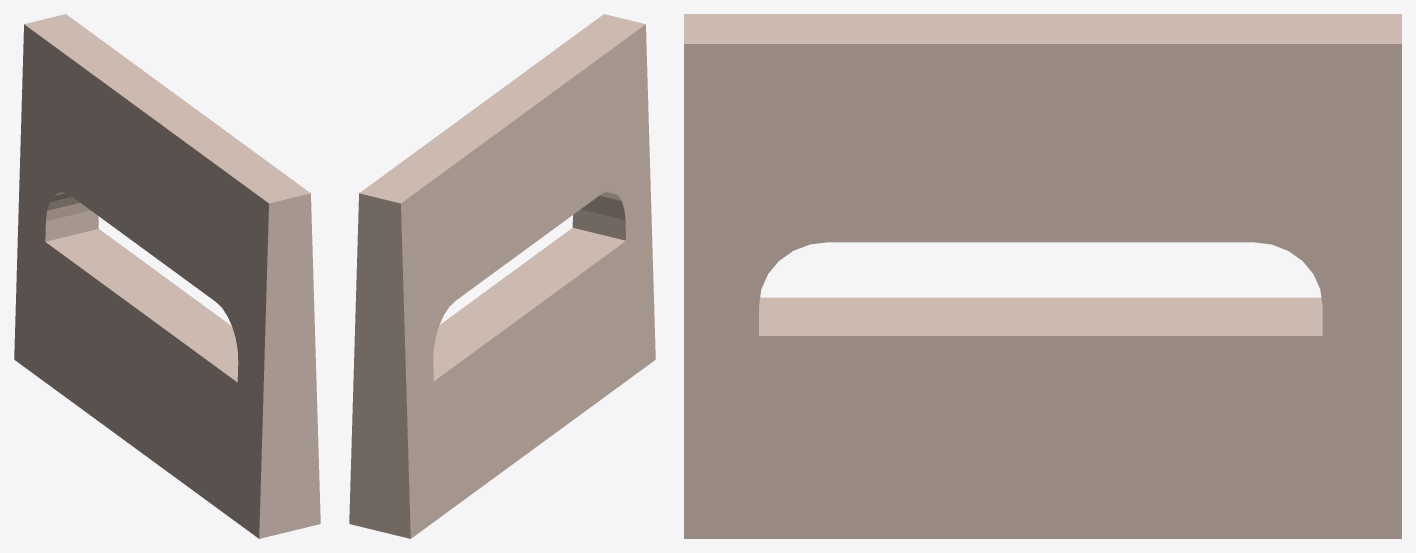
Rendered from DCInnerWall_Windowed.fbx.
3 renders of one model, left to right at view 1: azimuth 30°, elevation 25°; view 2: azimuth 150°, elevation 25°; view 3: azimuth 270°, elevation 25°, orthographic. The views are drawn at different scales.
Parts seen in each view (by area): view 1: DCInnerWall_Windowed; view 2: DCInnerWall_Windowed; view 3: DCInnerWall_Windowed.
Boxes of the visible parts, <box> form: DCInnerWall_Windowed: <box>14,14,320,538</box>; DCInnerWall_Windowed: <box>349,14,655,538</box>; DCInnerWall_Windowed: <box>684,14,1401,538</box>.
Bounding box in the file's own units: 14.51 × 100 × 75.
